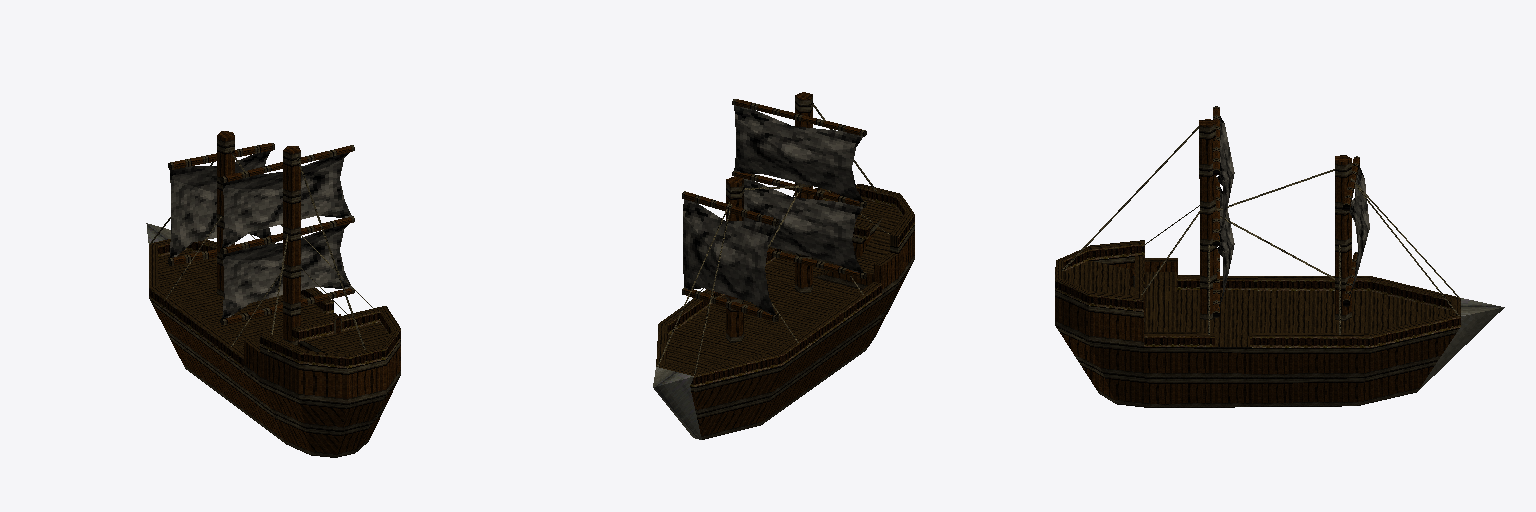
3 renders of one model, left to right at view 1: azimuth 30°, elevation 25°; view 2: azimuth 150°, elevation 25°; view 3: azimuth 270°, elevation 25°, orthographic.
Parts seen in each view (by area): view 1: Mesh16 Group2 col Model, Mesh14 Component_35_3 nocol Model, Mesh13 Component_35_2 nocol Model, Mesh12 Component_35_1 nocol Model, Mesh17 Group4 Group3 col Model, Mesh15 Group1 col Model, Mesh18 Group3 col Model, Mesh21 Group6 col Model, Mesh25 Component_27_3 col Model, Mesh26 Component_27_4 col Model, Mesh27 Component_27_5 col Model, Mesh23 Component_27_1 col Model; view 2: Mesh16 Group2 col Model, Mesh14 Component_35_3 nocol Model, Mesh12 Component_35_1 nocol Model, Mesh13 Component_35_2 nocol Model, Mesh18 Group3 col Model, Mesh20 Group5 col Model, Mesh17 Group4 Group3 col Model, Mesh21 Group6 col Model, Mesh15 Group1 col Model, Mesh25 Component_27_3 col Model, Mesh26 Component_27_4 col Model, Mesh23 Component_27_1 col Model (+2 smaller); view 3: Mesh16 Group2 col Model, Mesh18 Group3 col Model, Mesh17 Group4 Group3 col Model, Mesh15 Group1 col Model, Mesh21 Group6 col Model, Mesh20 Group5 col Model, Mesh12 Component_35_1 nocol Model, Mesh19 Group3 col Model, Mesh14 Component_35_3 nocol Model, Mesh13 Component_35_2 nocol Model.
Boxes of the visible parts, box(x1,y1,x2,y2) form: Mesh16 Group2 col Model: box(149, 250, 400, 457); Mesh14 Component_35_3 nocol Model: box(222, 152, 351, 247); Mesh13 Component_35_2 nocol Model: box(222, 224, 351, 318); Mesh12 Component_35_1 nocol Model: box(170, 151, 271, 257); Mesh17 Group4 Group3 col Model: box(260, 306, 400, 368); Mesh15 Group1 col Model: box(283, 146, 300, 345); Mesh18 Group3 col Model: box(149, 239, 333, 368); Mesh21 Group6 col Model: box(217, 131, 234, 296); Mesh25 Component_27_3 col Model: box(220, 145, 354, 182); Mesh26 Component_27_4 col Model: box(220, 216, 354, 253); Mesh27 Component_27_5 col Model: box(220, 288, 354, 324); Mesh23 Component_27_1 col Model: box(168, 143, 274, 169); Mesh16 Group2 col Model: box(666, 199, 914, 439); Mesh14 Component_35_3 nocol Model: box(734, 105, 863, 201); Mesh12 Component_35_1 nocol Model: box(683, 199, 775, 314); Mesh13 Component_35_2 nocol Model: box(735, 176, 863, 272); Mesh18 Group3 col Model: box(656, 282, 881, 386); Mesh20 Group5 col Model: box(653, 367, 701, 439); Mesh17 Group4 Group3 col Model: box(794, 184, 914, 246); Mesh21 Group6 col Model: box(726, 176, 743, 342); Mesh15 Group1 col Model: box(795, 92, 812, 293); Mesh25 Component_27_3 col Model: box(732, 99, 866, 136); Mesh26 Component_27_4 col Model: box(732, 171, 866, 207); Mesh23 Component_27_1 col Model: box(682, 191, 778, 226); Mesh16 Group2 col Model: box(1055, 255, 1459, 407); Mesh18 Group3 col Model: box(1177, 275, 1460, 347); Mesh17 Group4 Group3 col Model: box(1055, 240, 1144, 311); Mesh15 Group1 col Model: box(1199, 119, 1216, 319); Mesh21 Group6 col Model: box(1335, 155, 1351, 320); Mesh20 Group5 col Model: box(1418, 298, 1504, 390); Mesh12 Component_35_1 nocol Model: box(1348, 166, 1369, 297); Mesh19 Group3 col Model: box(1144, 332, 1214, 346); Mesh14 Component_35_3 nocol Model: box(1218, 116, 1234, 238); Mesh13 Component_35_2 nocol Model: box(1218, 187, 1234, 309).
Bounding box in the file's own units: 0.8965 × 1.74 × 2.65.
Materials: 6 (6 with a texture image).